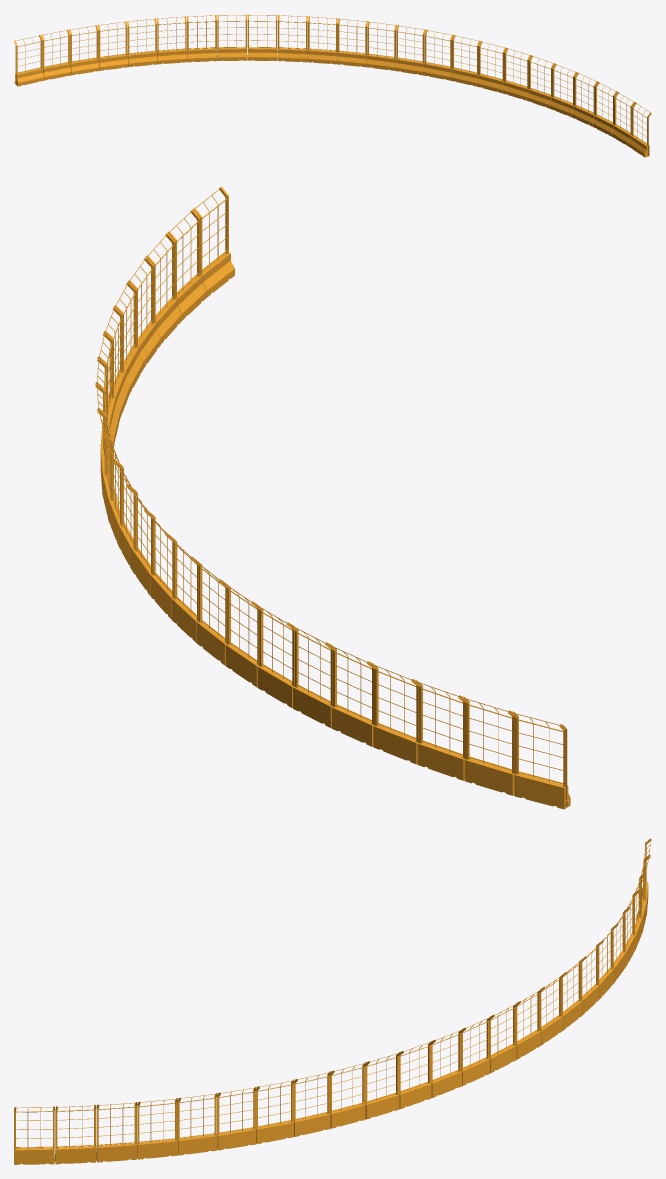
Rendered from SM_Fence_Road_Debrisguard_Bar_40m_Corner_Inner.fbx.
3 views of the same model, one above another, from view 1: azimuth 30°, elevation 25°; view 2: azimuth 150°, elevation 25°; view 3: azimuth 270°, elevation 25° (orthographic). The views are drawn at different scales.
Visible parts, largest first — view 1: SM_Fence_Road_Debrisguard_Bar_40m_Corner_Inner; view 2: SM_Fence_Road_Debrisguard_Bar_40m_Corner_Inner; view 3: SM_Fence_Road_Debrisguard_Bar_40m_Corner_Inner.
Boxes of the visible parts, box(x1,y1,x2,y2) form: SM_Fence_Road_Debrisguard_Bar_40m_Corner_Inner: box(14, 14, 651, 157); SM_Fence_Road_Debrisguard_Bar_40m_Corner_Inner: box(95, 186, 570, 809); SM_Fence_Road_Debrisguard_Bar_40m_Corner_Inner: box(14, 838, 651, 1164).
Bounding box in the file's own units: 39.43 × 4 × 39.31.
